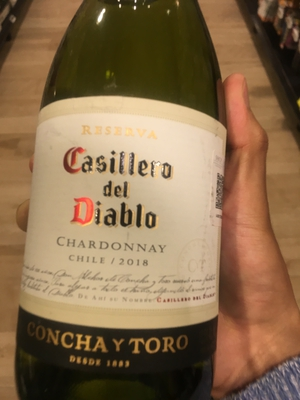casillero del diablo chardonnay: (17, 16, 230, 400)
